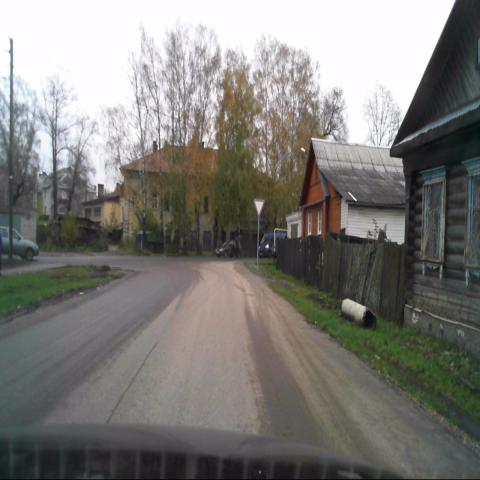2_4: (253, 198, 265, 217)
